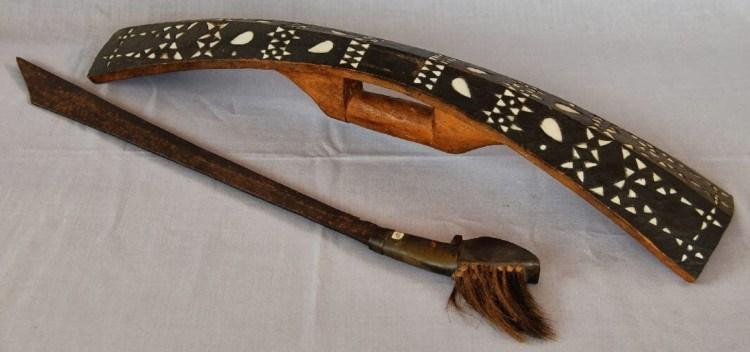espada: (7, 32, 546, 312)
